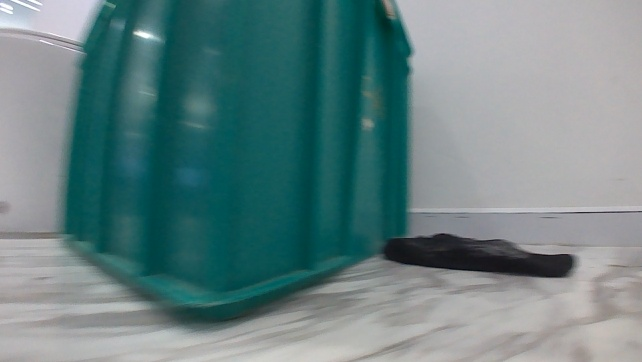socks: (380, 227, 579, 280)
toilet: (0, 22, 85, 235)
